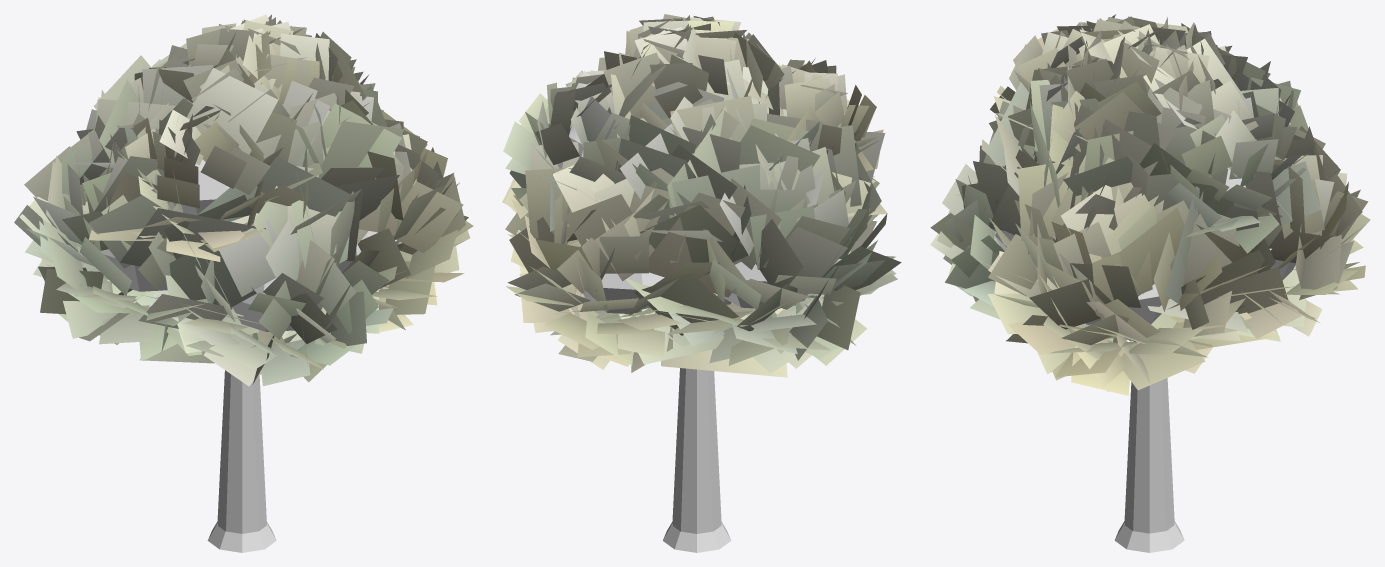
Rendered from tree_oak.glb.
The picture shows the model from 3 angles, left to right: view 1: azimuth 30°, elevation 25°; view 2: azimuth 150°, elevation 25°; view 3: azimuth 270°, elevation 25°; orthographic projection. The views are drawn at different scales.
Parts seen in each view (by area): view 1: tree_oak; view 2: tree_oak; view 3: tree_oak.
Boxes of the visible parts, x1,y1,x2,y2 form: tree_oak: (14, 14, 473, 552); tree_oak: (502, 14, 901, 552); tree_oak: (930, 14, 1370, 552).
Size of the model in its own units: 5.96 by 7.39 by 5.7.
